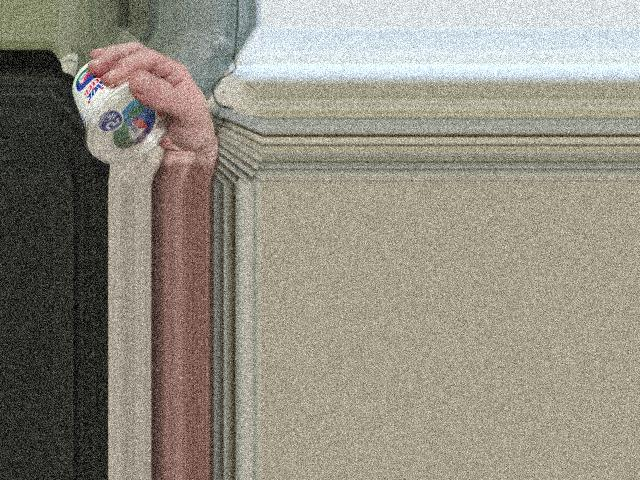cotage: (72, 55, 166, 168)
